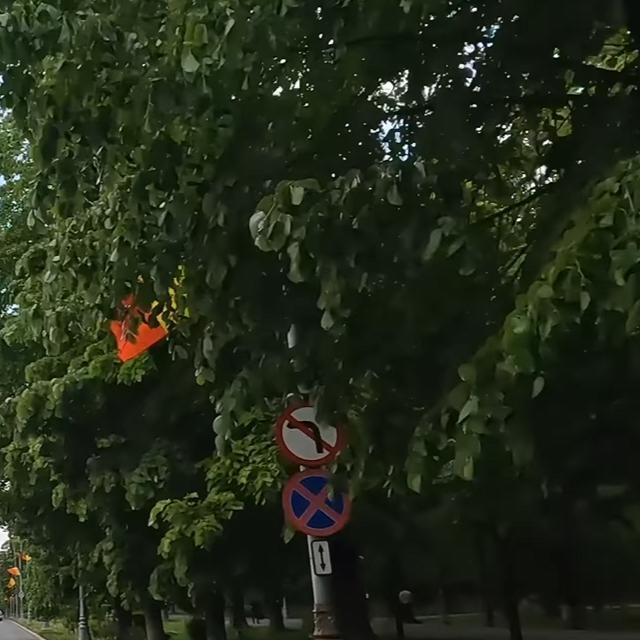forb_waiting: (281, 470, 351, 537)
